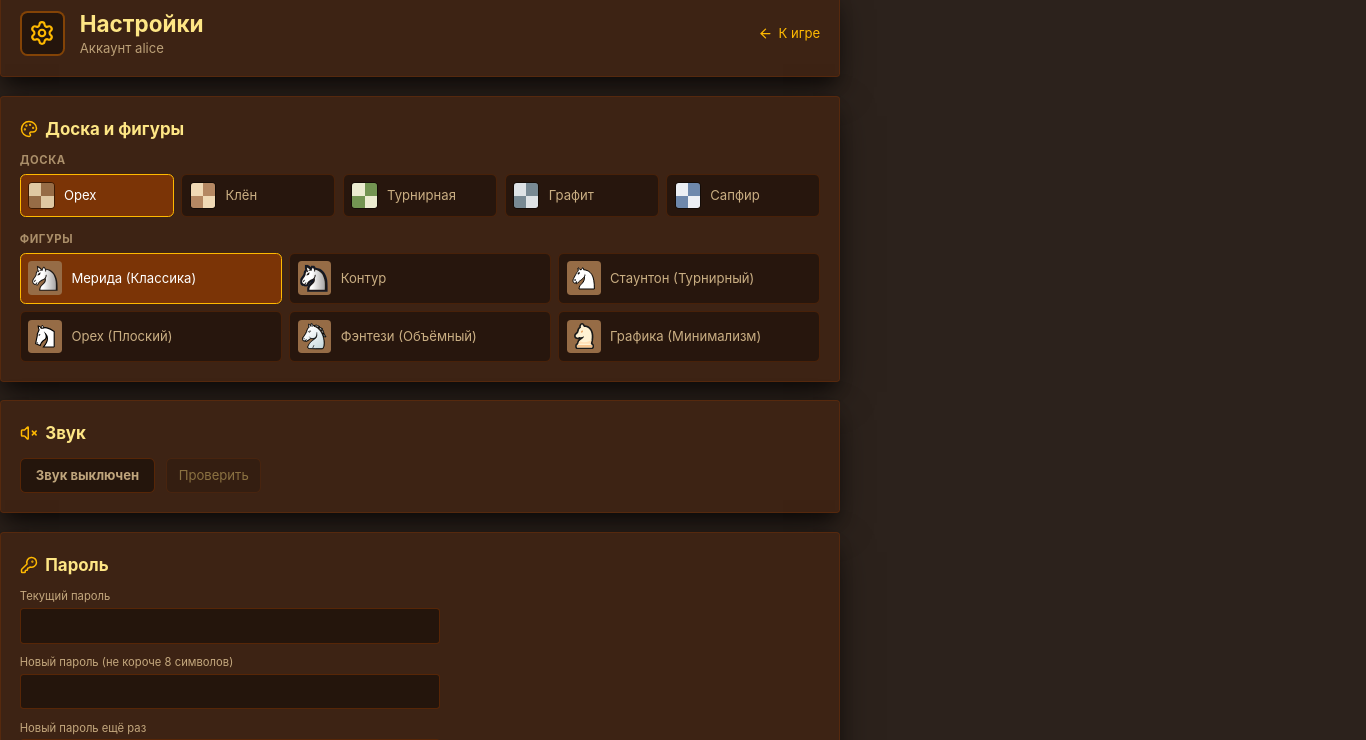
Settings: смена пароля › пароль short / short отклоняется до запроса
Type "old-password" into the password field labelled "Текущий пароль" at (230, 626), box [20,608,440,644]
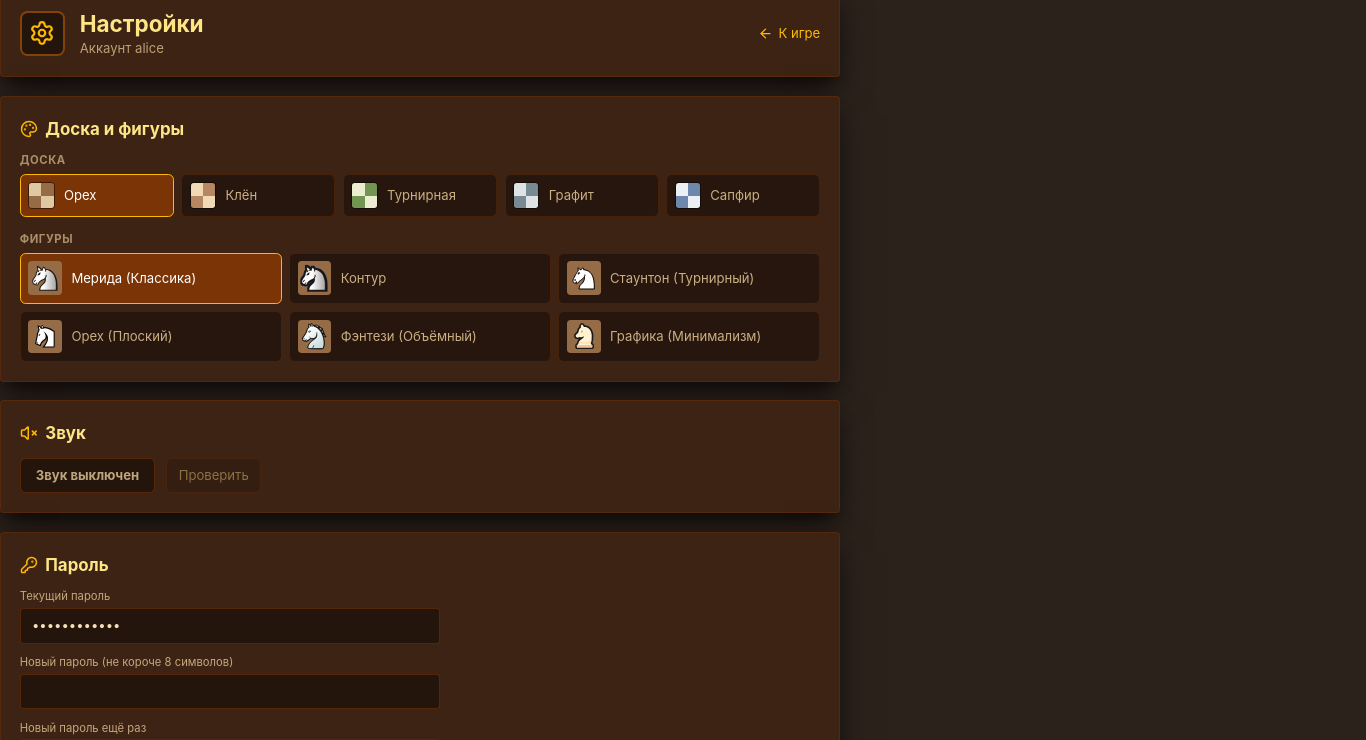
Type "short" into the password field labelled "Новый пароль (не короче 8 символов)" at (230, 691), box [20,674,440,709]
(page scrolled)
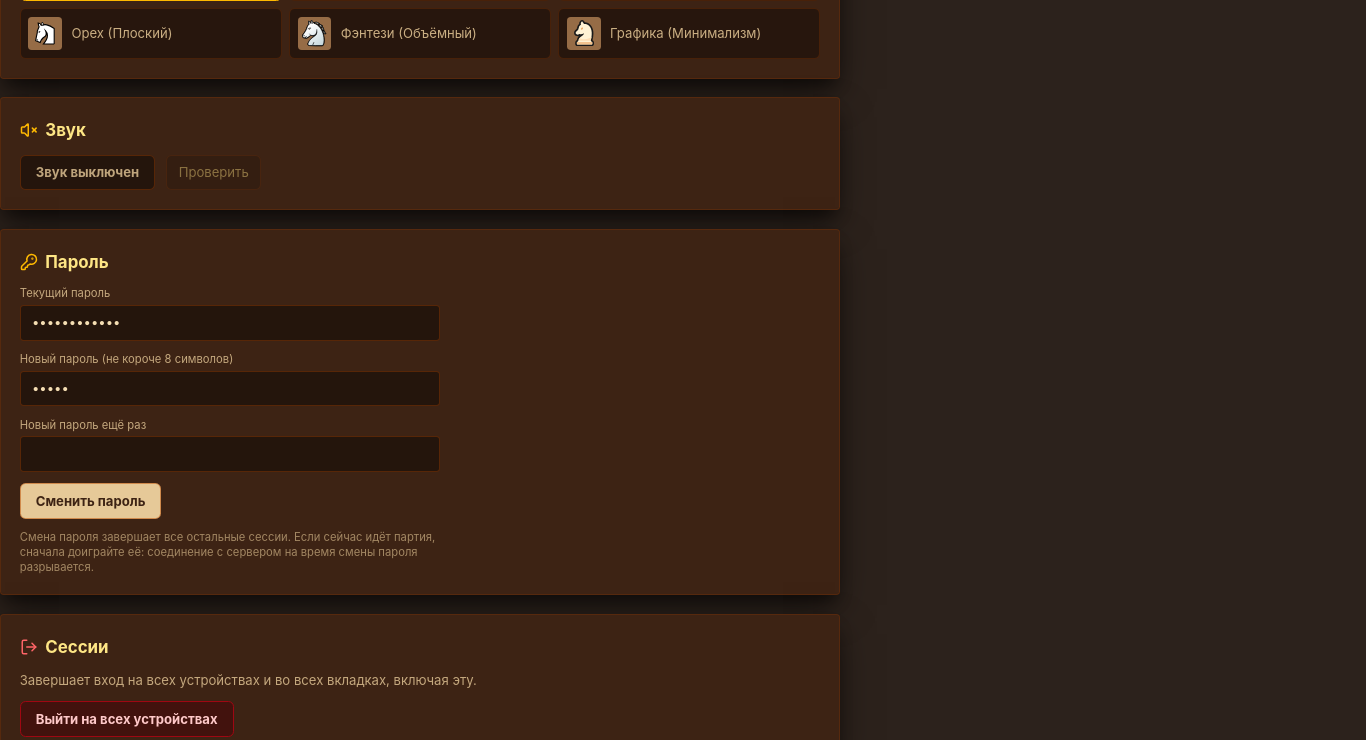
Type "short" into the password field labelled "Новый пароль ещё раз" at (230, 454), box [20,436,440,472]
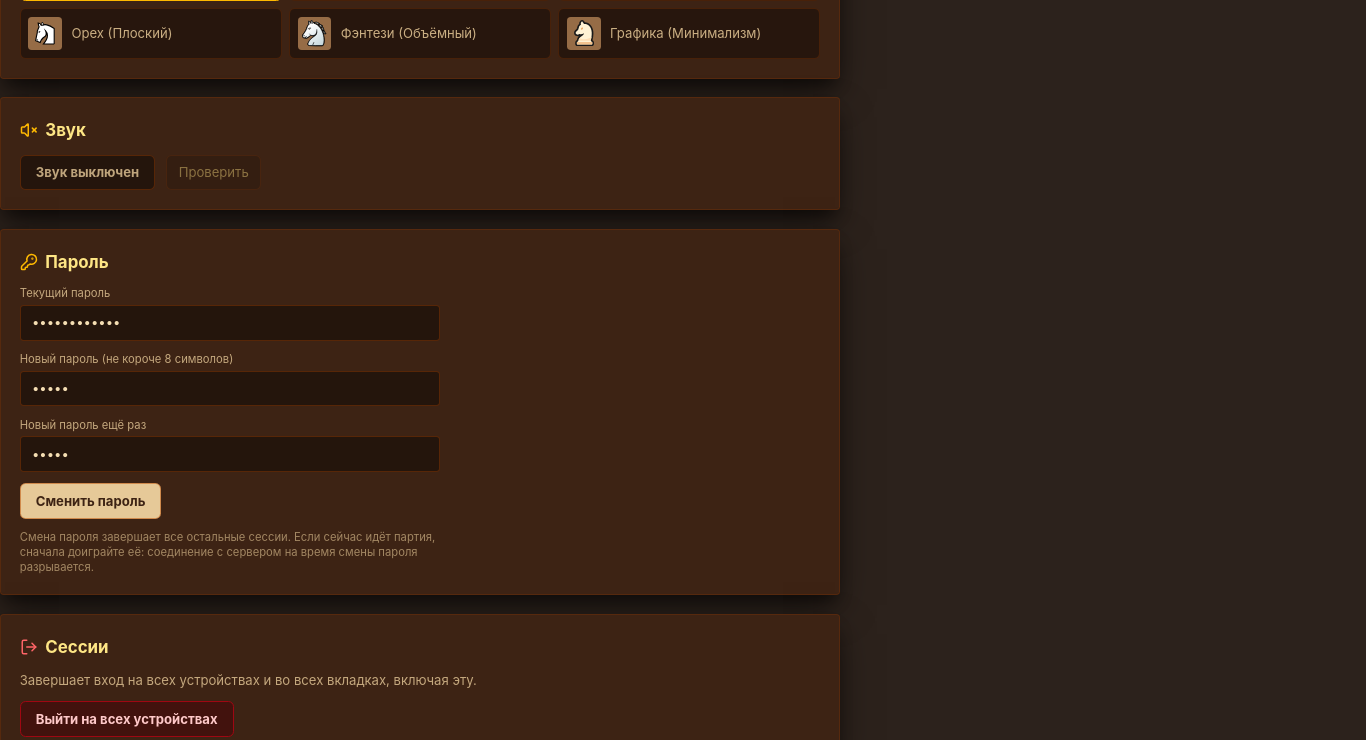
Click the button "Сменить пароль" at (91, 501), box [20,483,162,519]
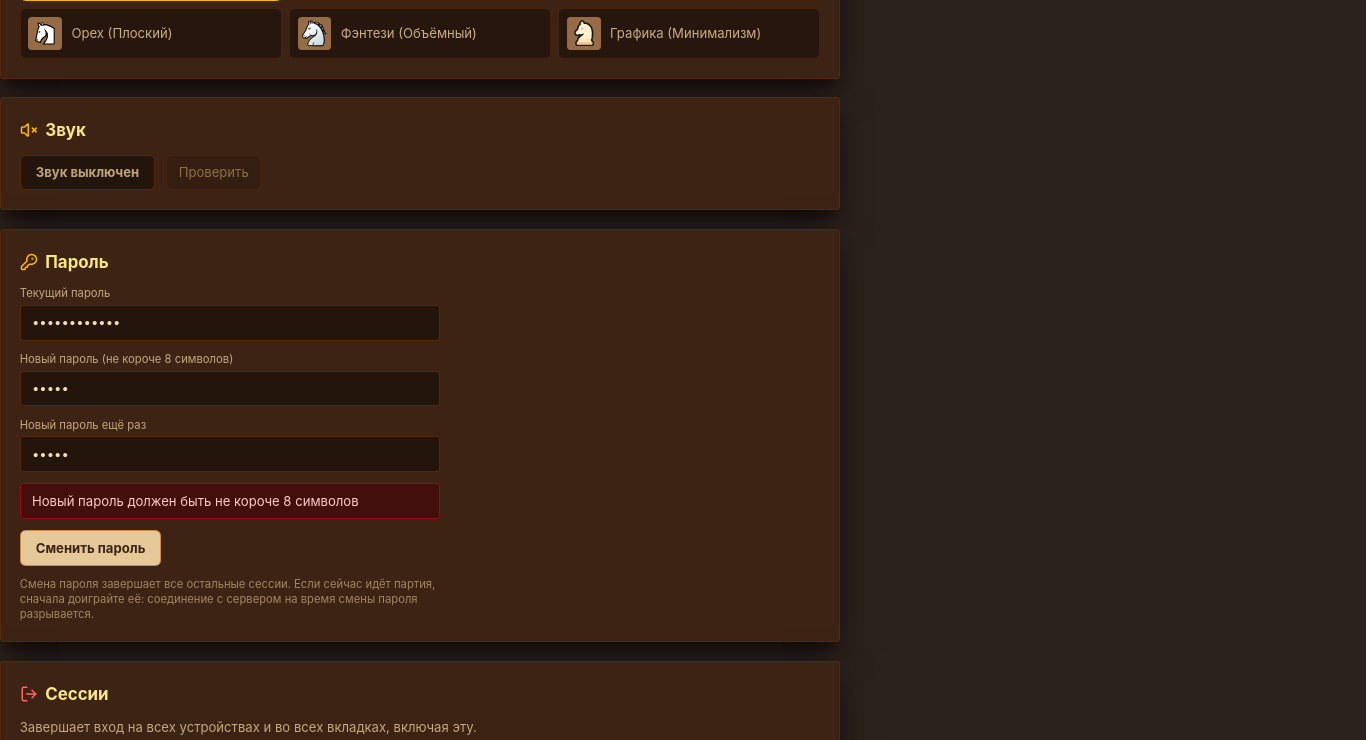
Expected: the message shows "не короче 8 символов", [32,493,359,509]
